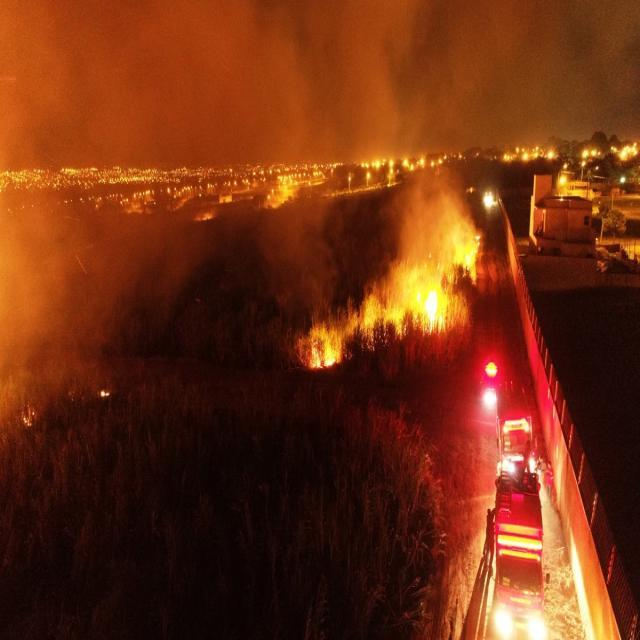Fire: (308, 333, 336, 370), (454, 229, 479, 267), (416, 284, 440, 322), (21, 402, 36, 426), (100, 390, 109, 398)
Smoke: (252, 0, 363, 161), (524, 0, 640, 138), (383, 0, 469, 146), (0, 202, 63, 371), (264, 205, 339, 317), (398, 187, 451, 265)
